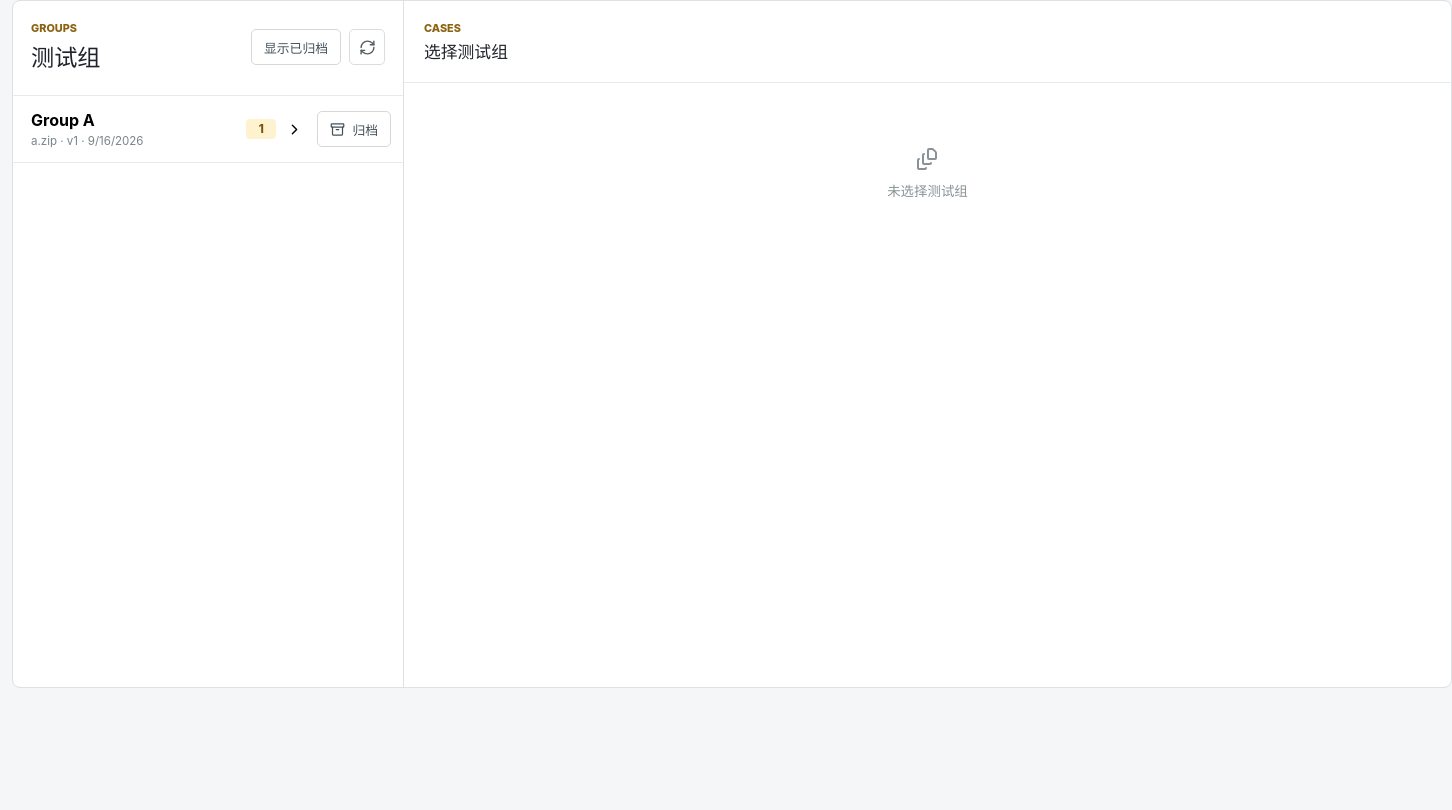
Test case: marks cases that carry reference images
This screenshot has width=1452, height=810.
Step 1. Click the button "Group A a.zip · v1 · 9/16/2026 1" → (63, 120), box top-left (13, 96), bottom-right (317, 162)
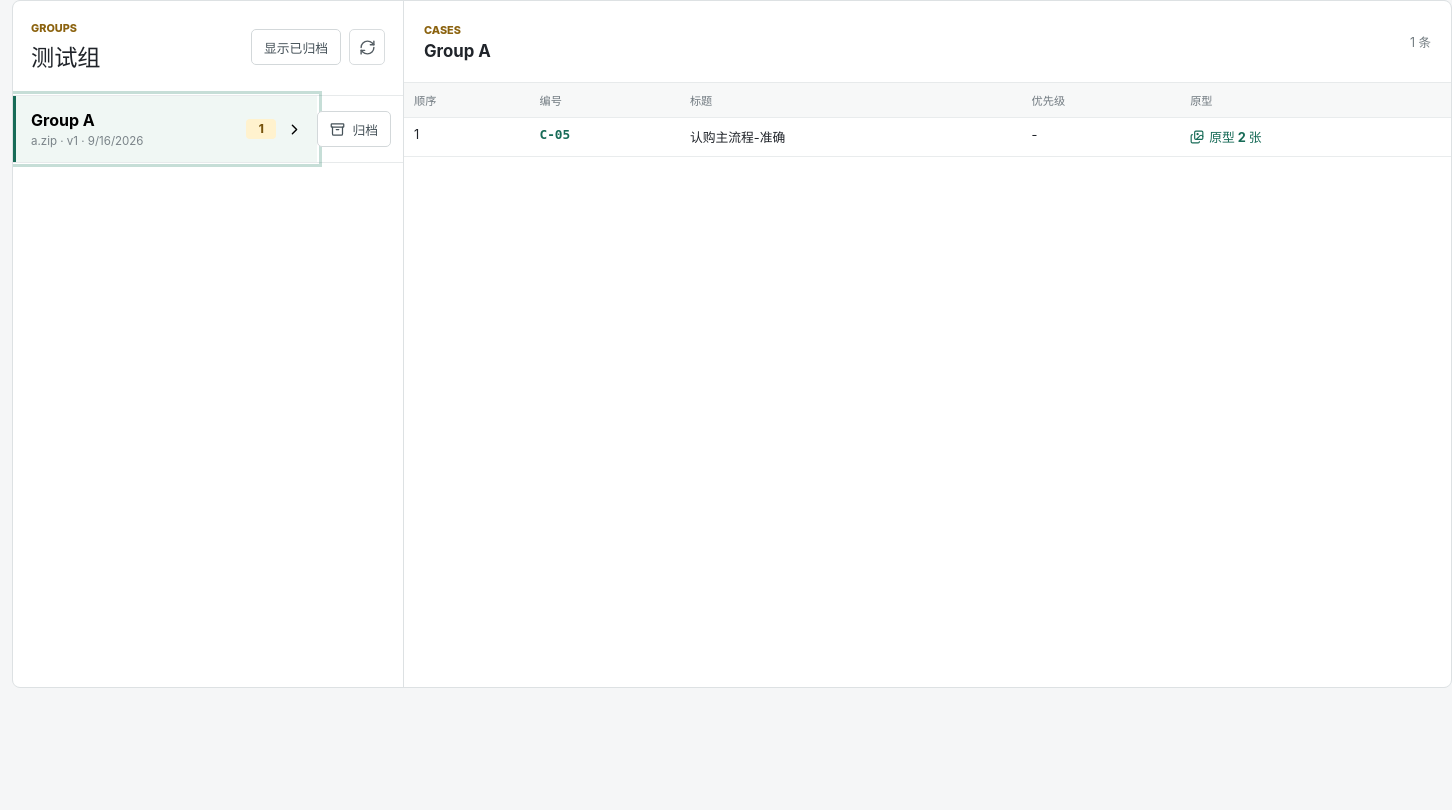
Now the text "原型 2 张" is shown, box top-left (1190, 127), bottom-right (1262, 146)
